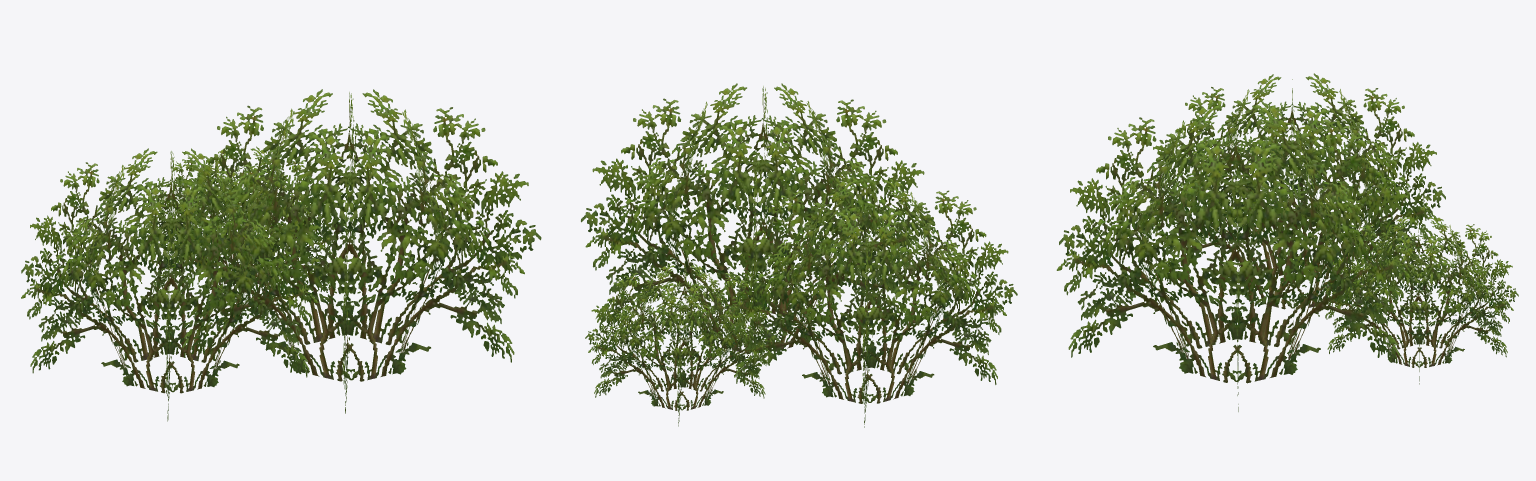
The model's file is grs_weed09_1.glb.
The picture shows the model from 3 angles, left to right: view 1: azimuth 30°, elevation 25°; view 2: azimuth 150°, elevation 25°; view 3: azimuth 270°, elevation 25°; orthographic projection. The views are drawn at different scales.
Visible parts, largest first — view 1: grs_weed09_1; view 2: grs_weed09_1; view 3: grs_weed09_1.
Boxes of the visible parts, box(x1,y1,x2,y2) form: grs_weed09_1: box(21, 89, 541, 421); grs_weed09_1: box(581, 83, 1017, 427); grs_weed09_1: box(1056, 73, 1518, 411).
Size of the model in its own units: 15.43 by 7.96 by 12.98.
1 material, 1 textured.
